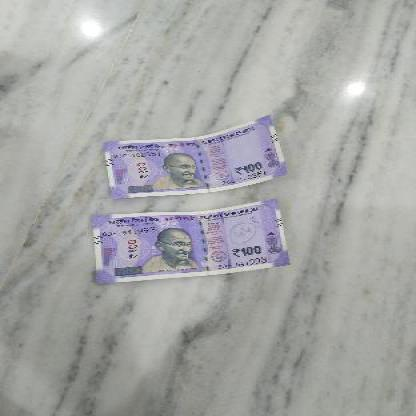New100Front: (89, 204, 288, 275), (108, 120, 288, 191)
